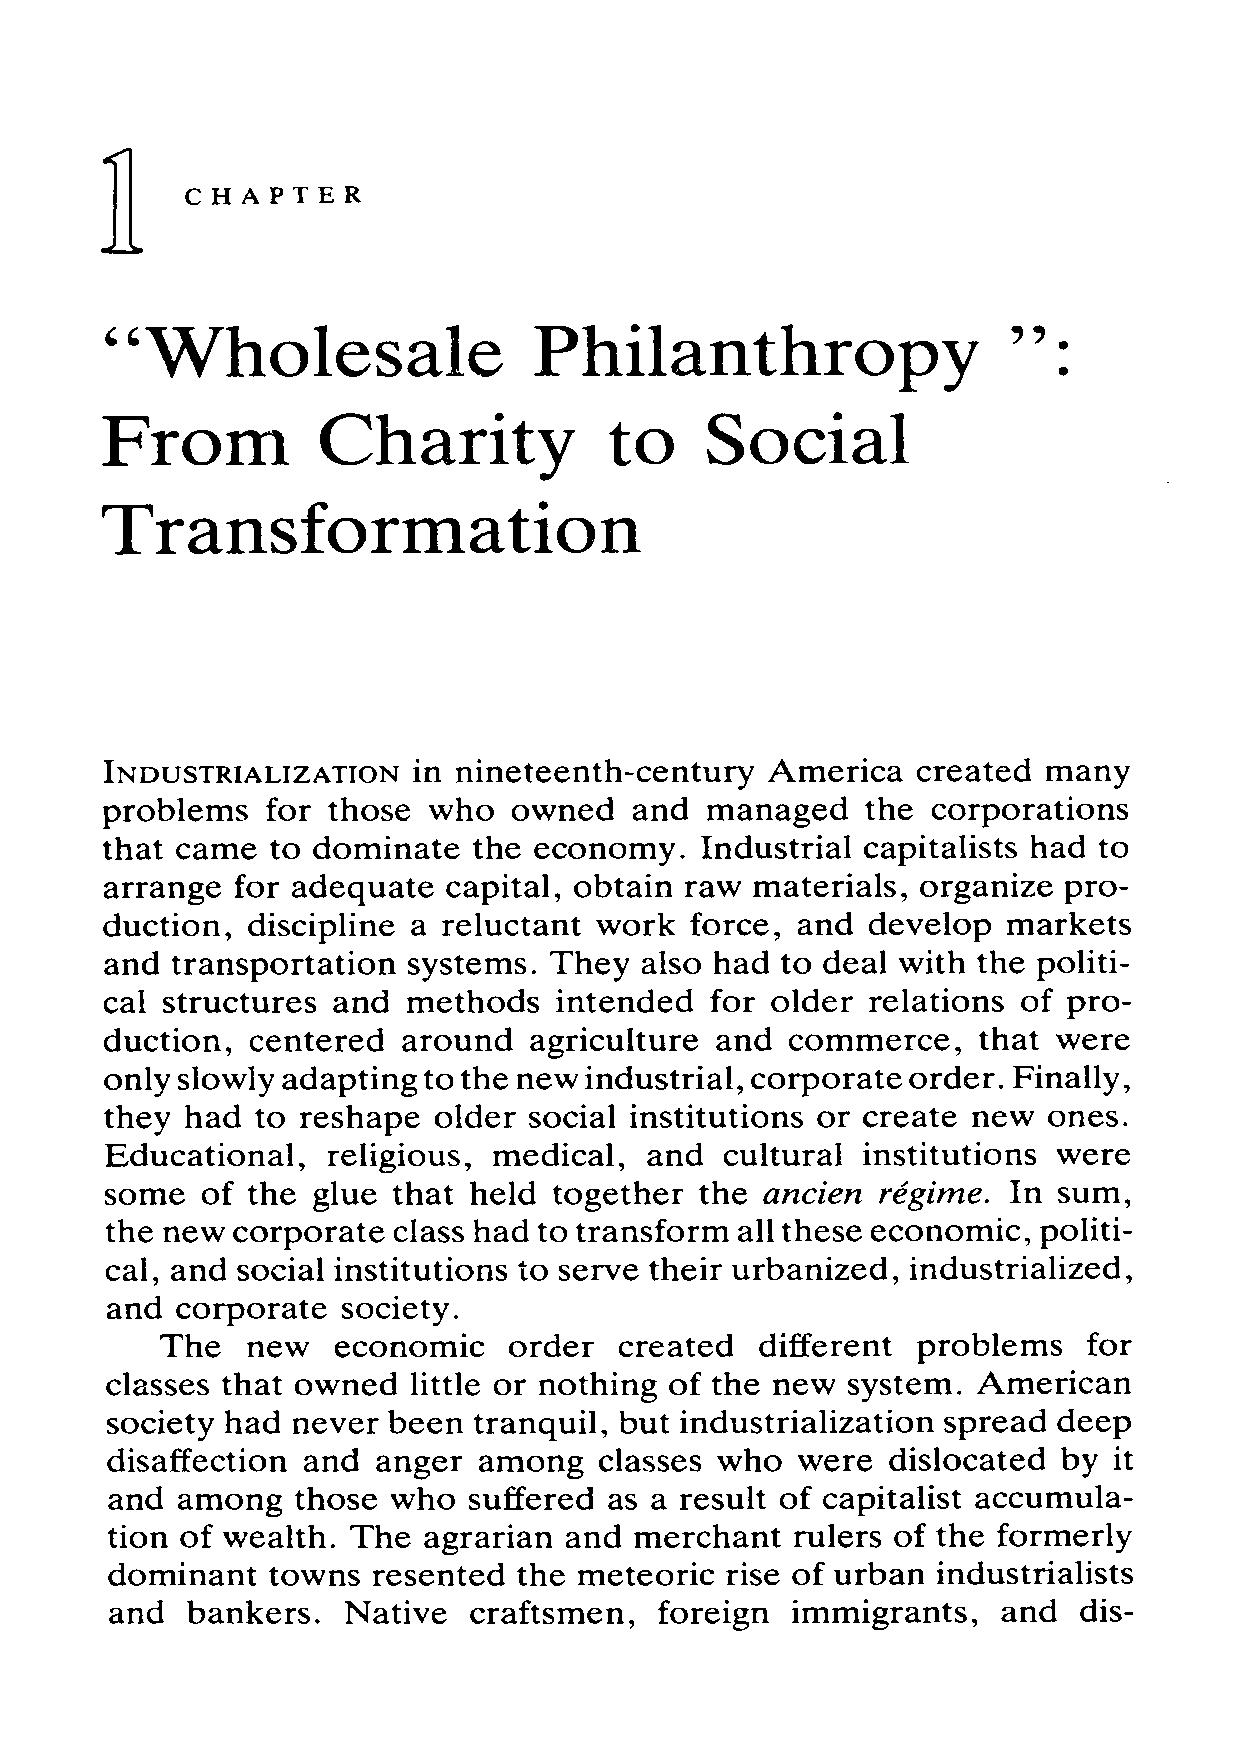chapter: (101, 317, 1074, 557)
content: (99, 756, 1131, 1631)
